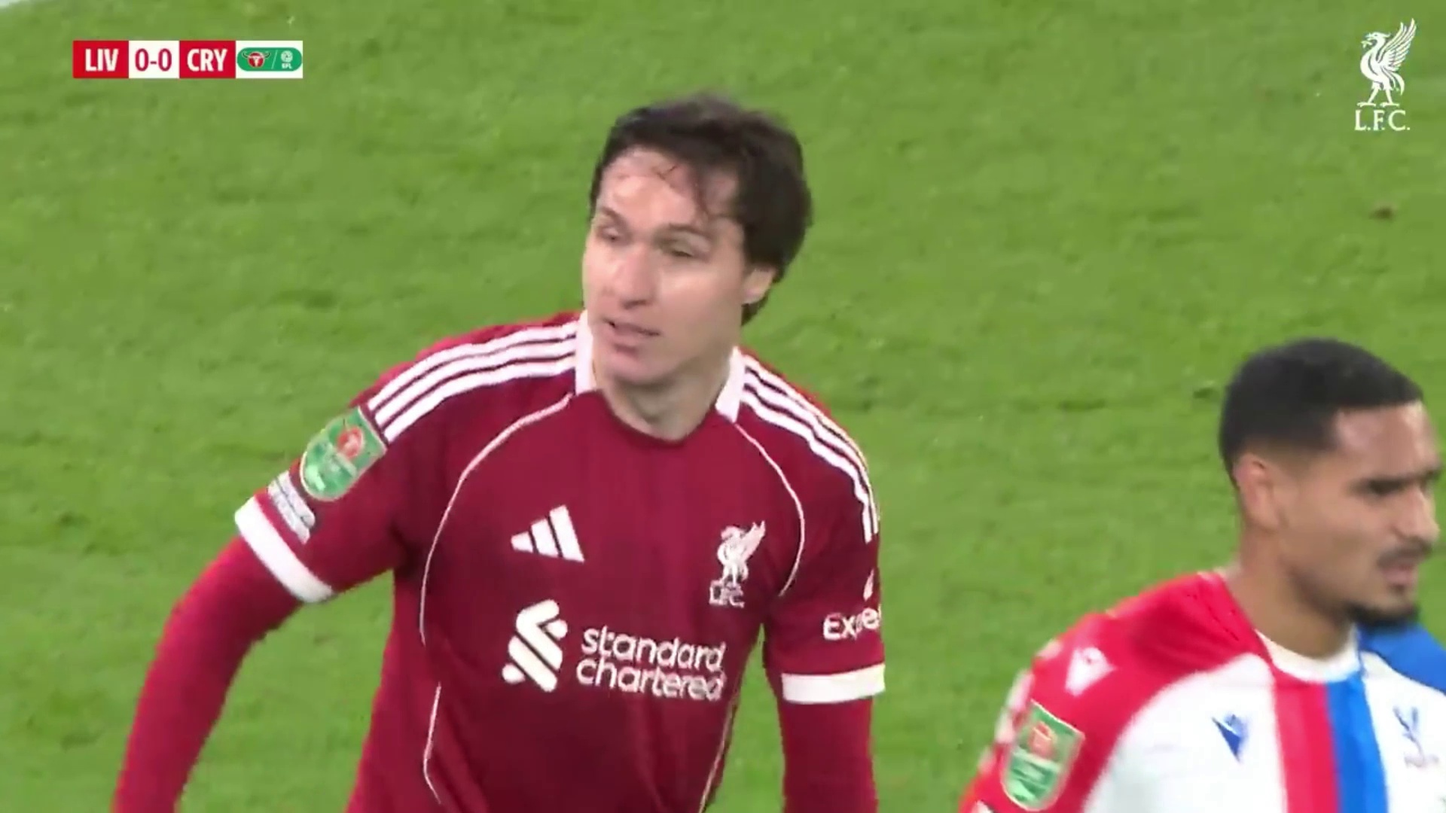player: (114, 96, 888, 806), (956, 336, 1446, 808)
